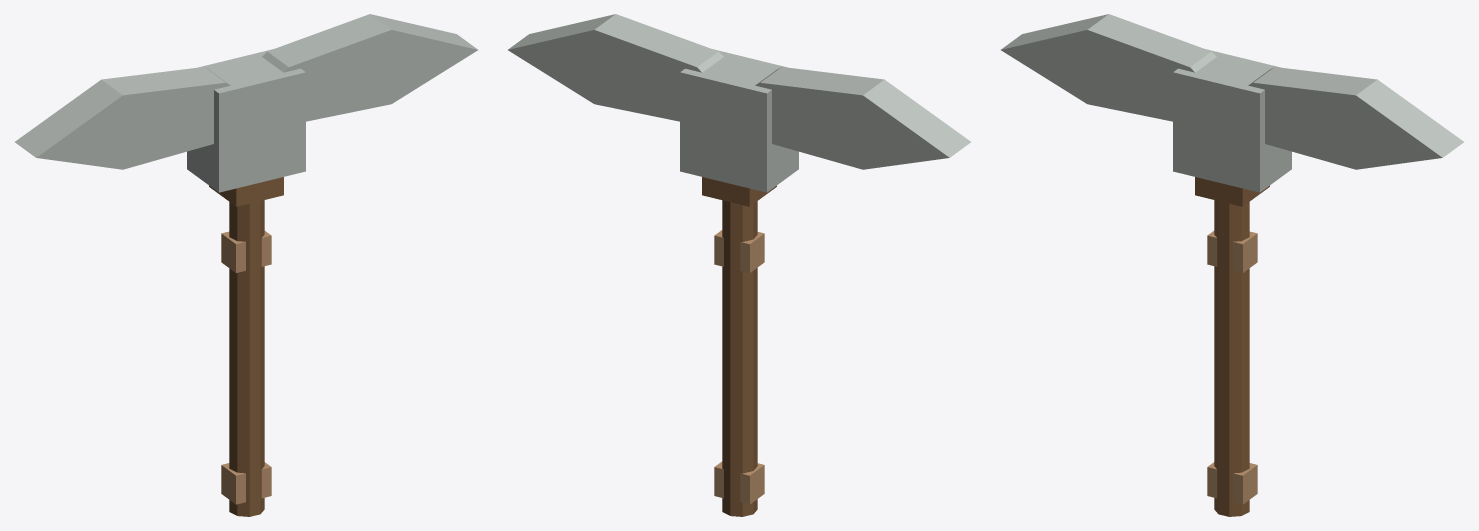
The model's file is stonePickaxe.glb.
3 views of the same model, side by side, from view 1: azimuth 30°, elevation 25°; view 2: azimuth 150°, elevation 25°; view 3: azimuth 330°, elevation 25° (orthographic).
Visible parts, largest first — view 1: PickaxeHead, PickaxeCollar, Handle, GripWrapHigh, GripWrapLow, ToolHeadSocket; view 2: PickaxeHead, PickaxeCollar, Handle, GripWrapLow, GripWrapHigh, ToolHeadSocket; view 3: PickaxeHead, PickaxeCollar, Handle, GripWrapHigh, GripWrapLow, ToolHeadSocket.
Boxes of the visible parts, left/top/right/bottom form: PickaxeHead: left=15, top=14, right=477, bottom=169; PickaxeCollar: left=187, top=49, right=305, bottom=192; Handle: left=229, top=200, right=264, bottom=516; GripWrapHigh: left=221, top=231, right=271, bottom=272; GripWrapLow: left=221, top=462, right=271, bottom=504; ToolHeadSocket: left=209, top=177, right=283, bottom=206; PickaxeHead: left=508, top=14, right=970, bottom=169; PickaxeCollar: left=680, top=49, right=798, bottom=192; Handle: left=722, top=200, right=757, bottom=516; GripWrapLow: left=714, top=461, right=764, bottom=504; GripWrapHigh: left=714, top=230, right=764, bottom=272; ToolHeadSocket: left=702, top=177, right=776, bottom=206; PickaxeHead: left=1001, top=14, right=1463, bottom=169; PickaxeCollar: left=1173, top=49, right=1291, bottom=192; Handle: left=1214, top=200, right=1249, bottom=516; GripWrapHigh: left=1207, top=231, right=1257, bottom=272; GripWrapLow: left=1207, top=462, right=1257, bottom=504; ToolHeadSocket: left=1195, top=177, right=1269, bottom=206.
Bounding box in the file's own units: 1.12 × 1.1 × 0.14.
